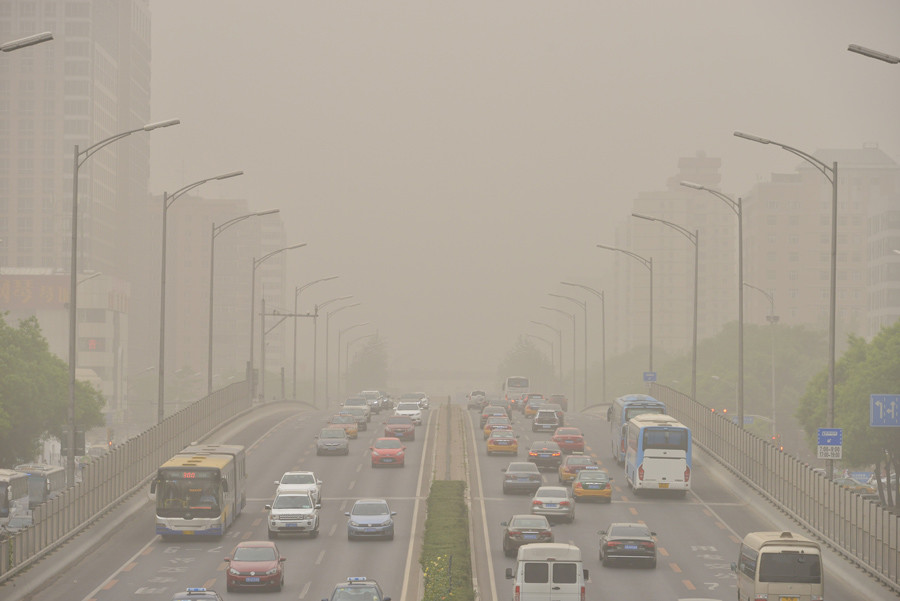bus: (153, 442, 246, 540), (734, 530, 823, 600), (619, 410, 692, 494), (606, 392, 661, 465), (502, 378, 528, 406)
car: (503, 468, 576, 543), (223, 541, 285, 592), (598, 523, 658, 568), (265, 492, 319, 537), (500, 514, 554, 557), (344, 498, 395, 541), (529, 485, 576, 523), (274, 471, 322, 507), (501, 461, 544, 496), (326, 578, 386, 600), (575, 464, 610, 499), (367, 436, 405, 468), (561, 451, 598, 481), (315, 426, 350, 456), (486, 429, 519, 455), (530, 437, 558, 465), (395, 401, 423, 428), (385, 415, 414, 439), (329, 414, 354, 436), (483, 417, 511, 436), (344, 406, 365, 430), (555, 429, 582, 447), (349, 400, 371, 422), (480, 404, 506, 421), (534, 411, 556, 431), (525, 399, 546, 419), (362, 391, 377, 415), (465, 389, 485, 407)
